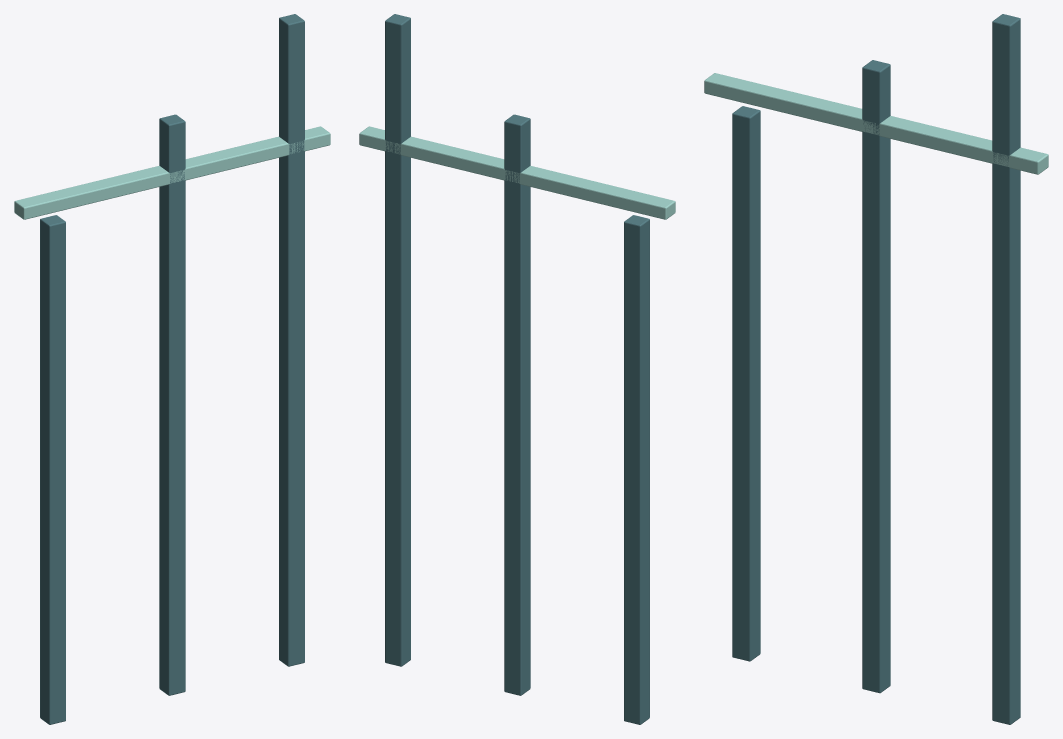
Rendered from distant-architecture.glb.
3 views of the same model, side by side, from view 1: azimuth 30°, elevation 25°; view 2: azimuth 150°, elevation 25°; view 3: azimuth 330°, elevation 25° (orthographic). The views are drawn at different scales.
Parts seen in each view (by area): view 1: LMW_Frame_pillar_2, LMW_Frame_pillar_1, LMW_Frame_pillar_0, LMW_Frame_bridge; view 2: LMW_Frame_pillar_2, LMW_Frame_pillar_1, LMW_Frame_pillar_0, LMW_Frame_bridge; view 3: LMW_Frame_pillar_2, LMW_Frame_pillar_1, LMW_Frame_pillar_0, LMW_Frame_bridge.
Boxes of the visible parts, box(x1,y1,x2,y2) form: LMW_Frame_pillar_2: box(279, 14, 304, 666); LMW_Frame_pillar_1: box(159, 114, 185, 695); LMW_Frame_pillar_0: box(40, 215, 65, 724); LMW_Frame_bridge: box(14, 126, 330, 219); LMW_Frame_pillar_2: box(385, 14, 410, 666); LMW_Frame_pillar_1: box(504, 114, 530, 695); LMW_Frame_pillar_0: box(624, 215, 649, 724); LMW_Frame_bridge: box(359, 126, 675, 219); LMW_Frame_pillar_2: box(992, 14, 1020, 724); LMW_Frame_pillar_1: box(862, 60, 890, 693); LMW_Frame_pillar_0: box(732, 106, 760, 661); LMW_Frame_bridge: box(704, 73, 1048, 174).
Bounding box in the file's own units: 18 × 36 × 1.
